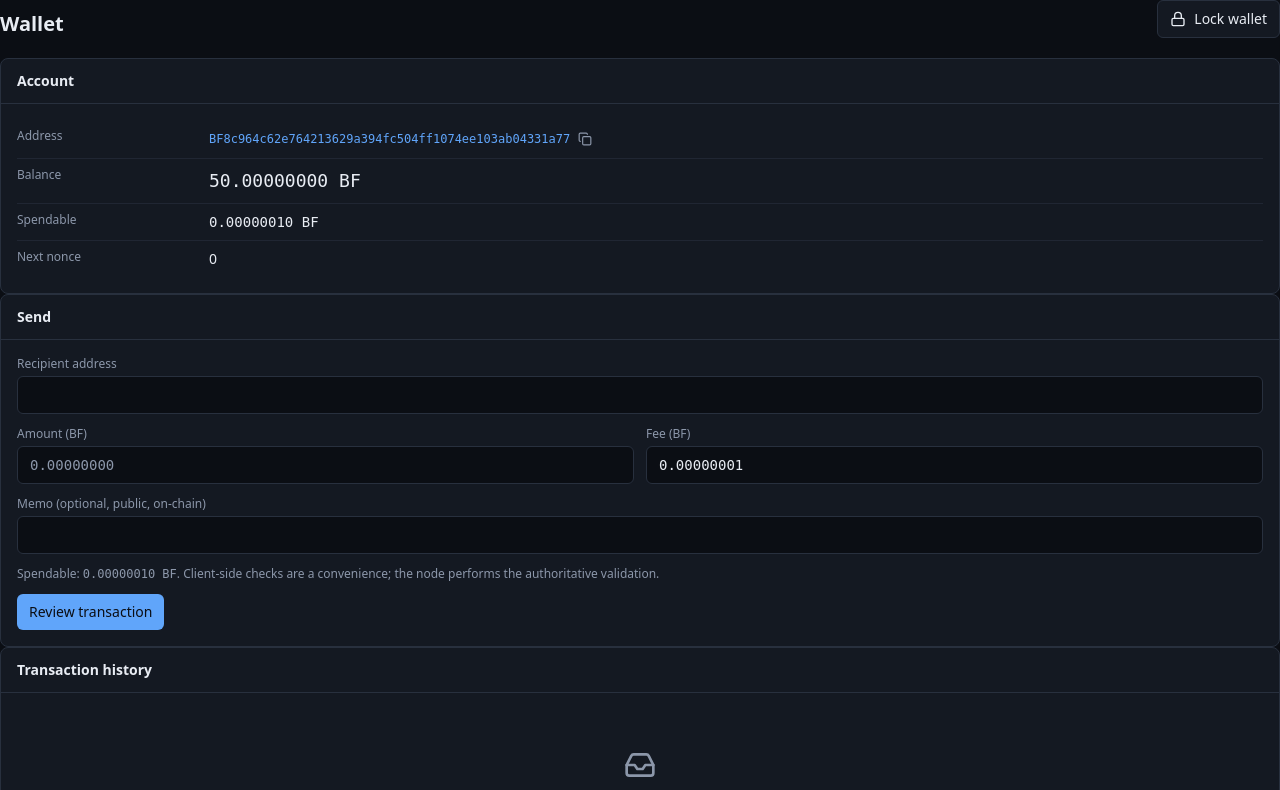
Test: Wallet › blocks sending when spendable balance is insufficient (checked against the node's fresh data)
The width and height of the screenshot is (1280, 790).
Step 1. Type "BFaf24e45b5c7a186d9444b33f045e6f13f8bd6d0dd95cf396" into the field labelled "Recipient address" → (640, 395), box [17,376,1263,414]
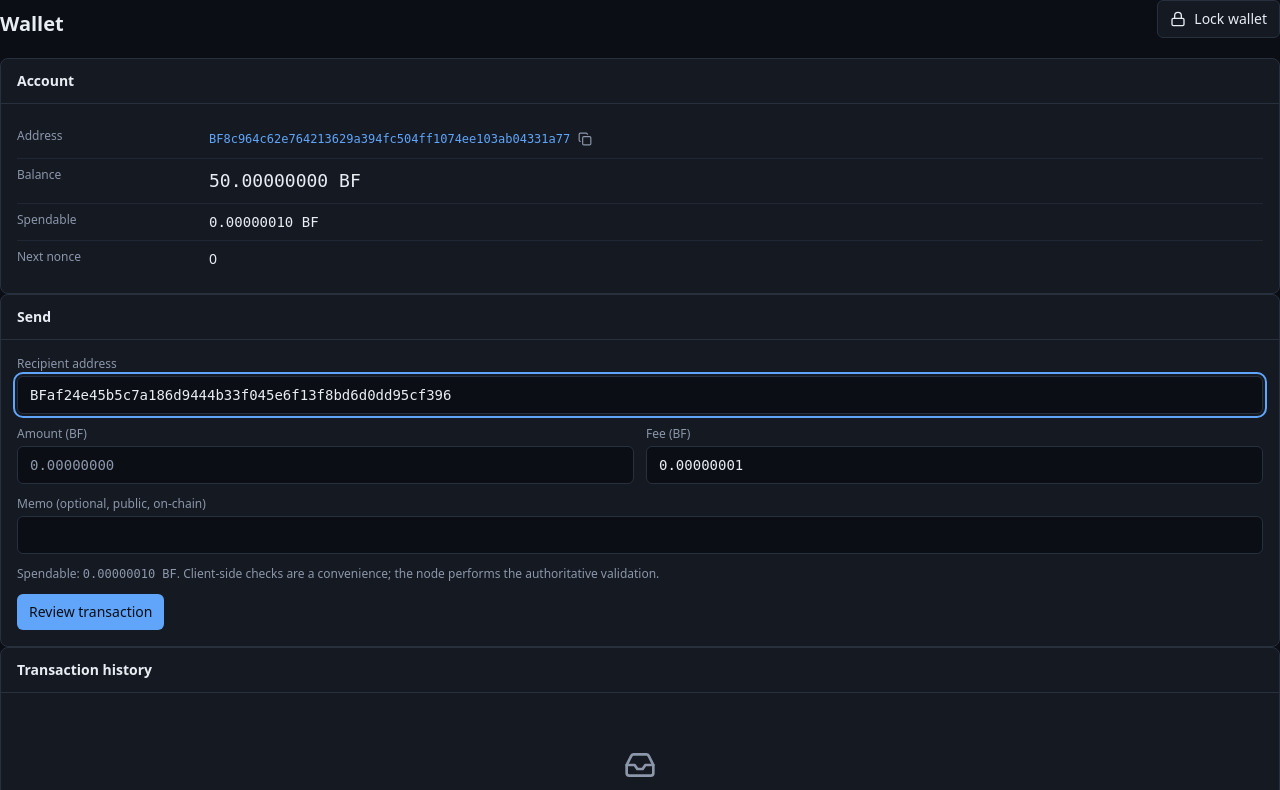
Step 2. Type "1" into the field labelled "Amount (BF)" → (326, 465), box [17,446,634,484]
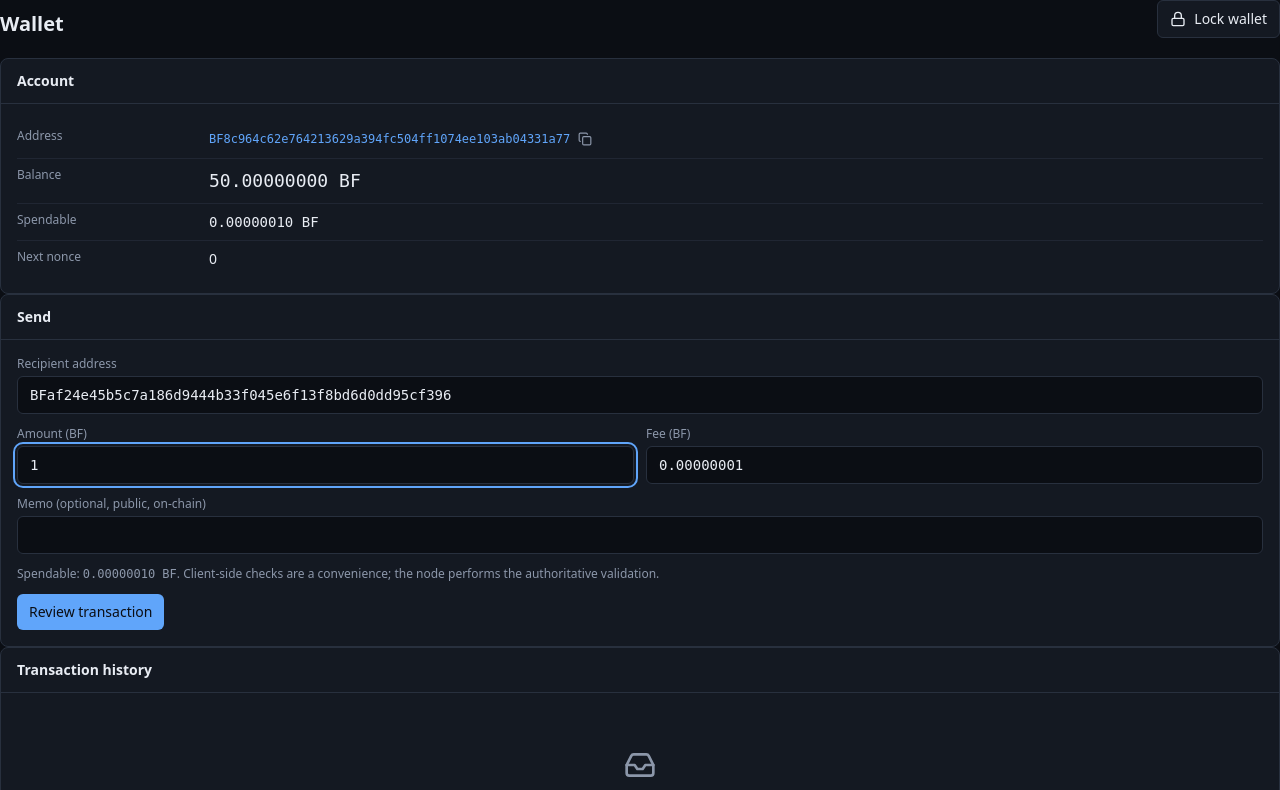
Step 3. Click the button "Review transaction" → (91, 612), box [17,594,164,630]
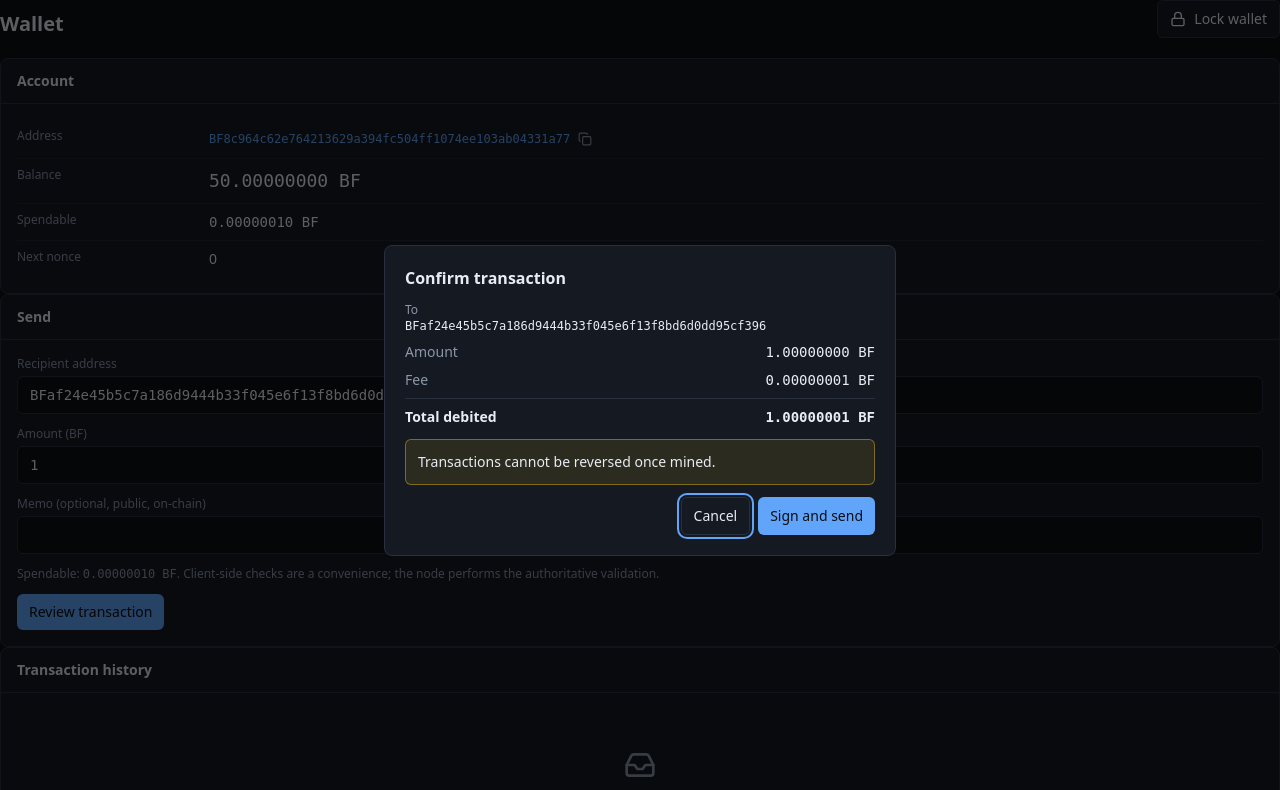
Step 4. Click the button "Sign and send" → (817, 516), box [758,496,875,534]
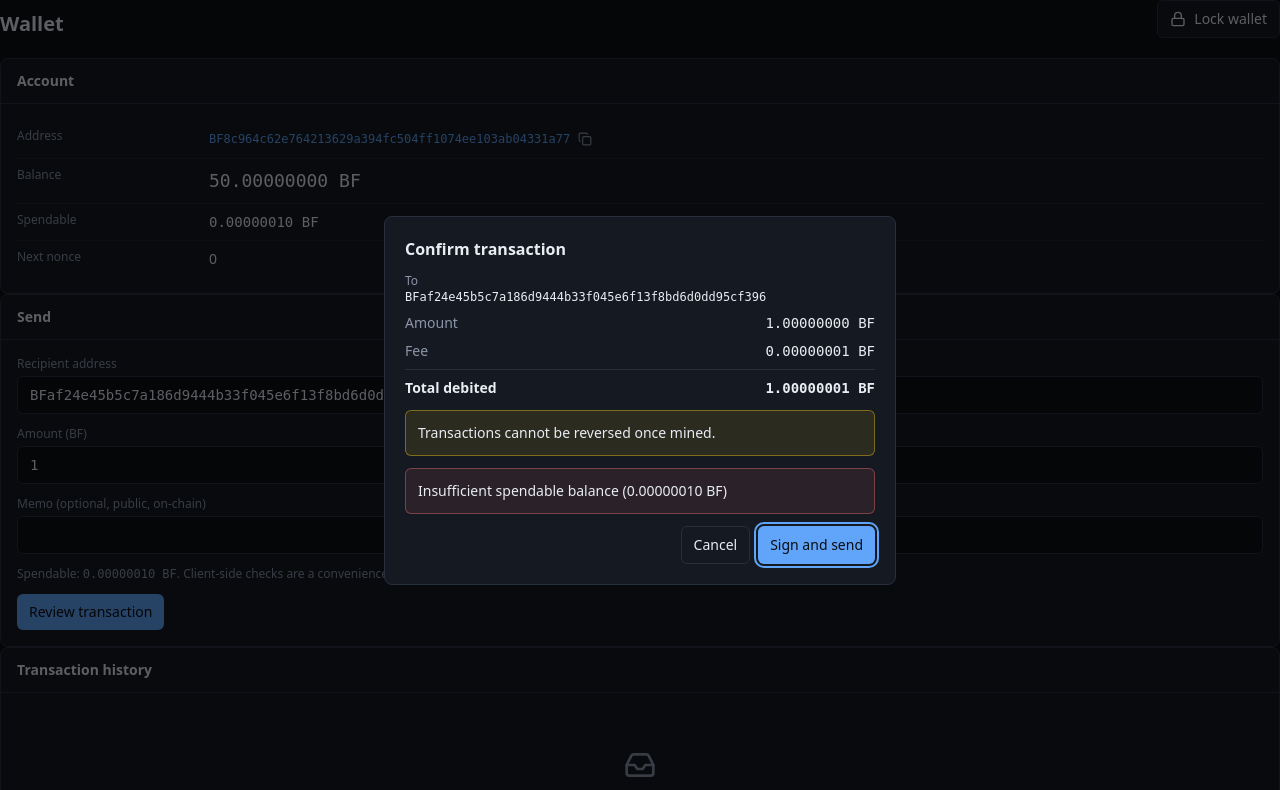
Expected: the text "Insufficient spendable balance (0.00000010 BF)" is shown, [405,468,875,514]
